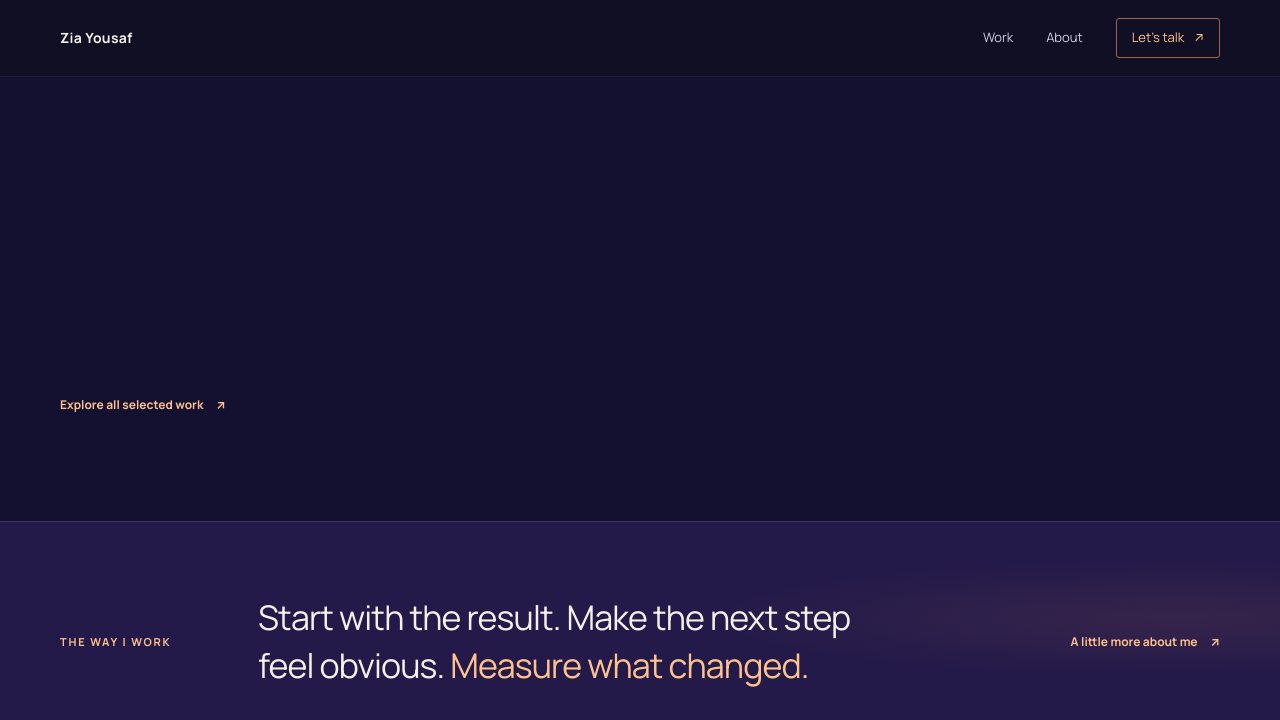
Test: opens the full work index from the home page
This screenshot has width=1280, height=720.
(page scrolled)
Click the link "Explore all selected work ↗". click: click(143, 405)
box: [60,395,226,415]
(page scrolled)
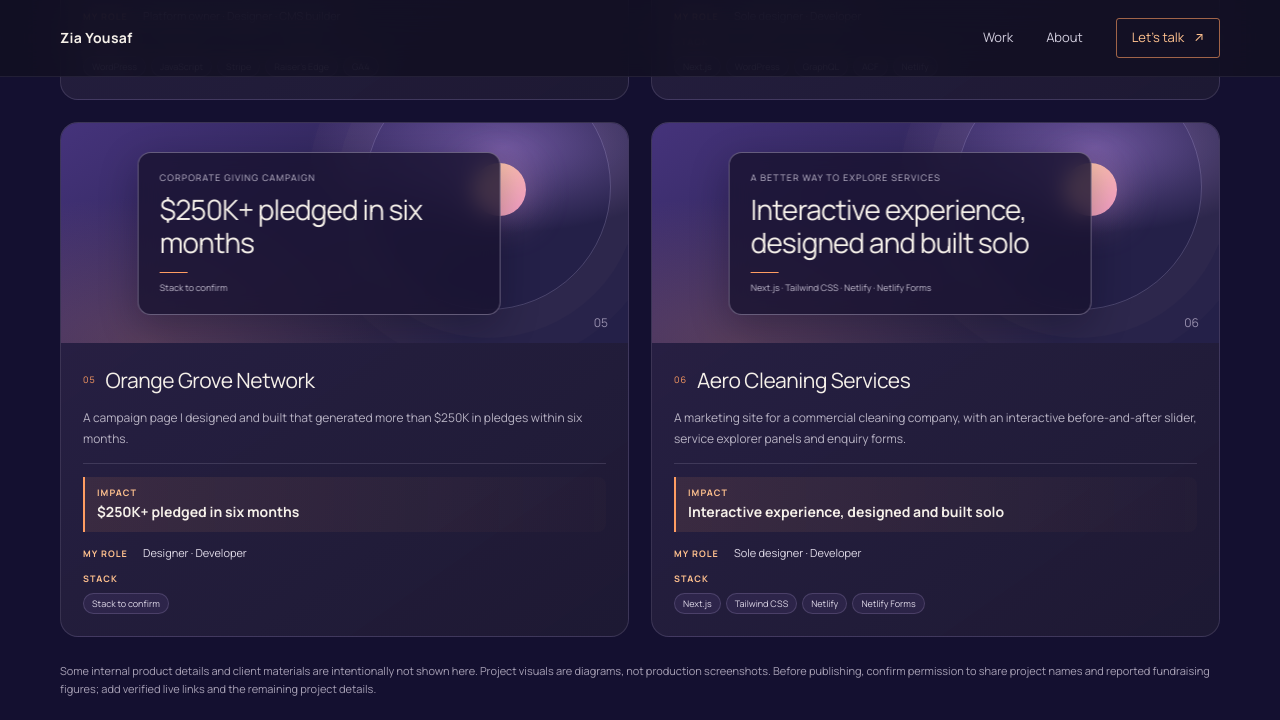
Check: the heading "Aero Cleaning Services" is shown, box [697,366,910,394]
